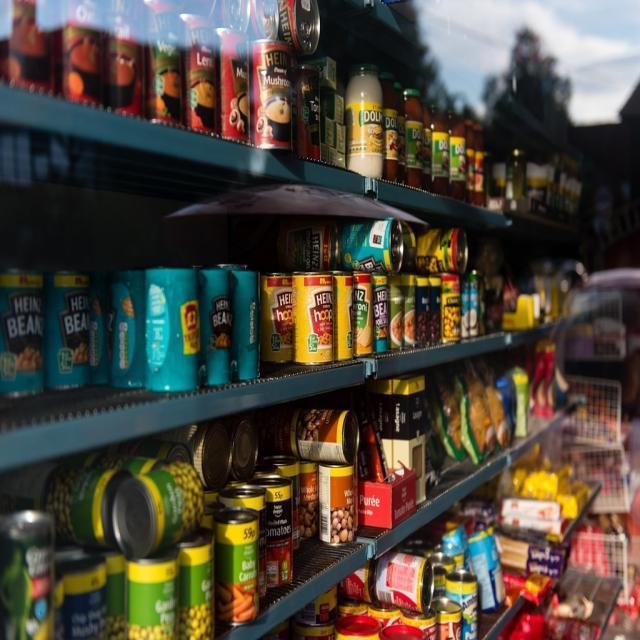can: (1, 0, 540, 640)
